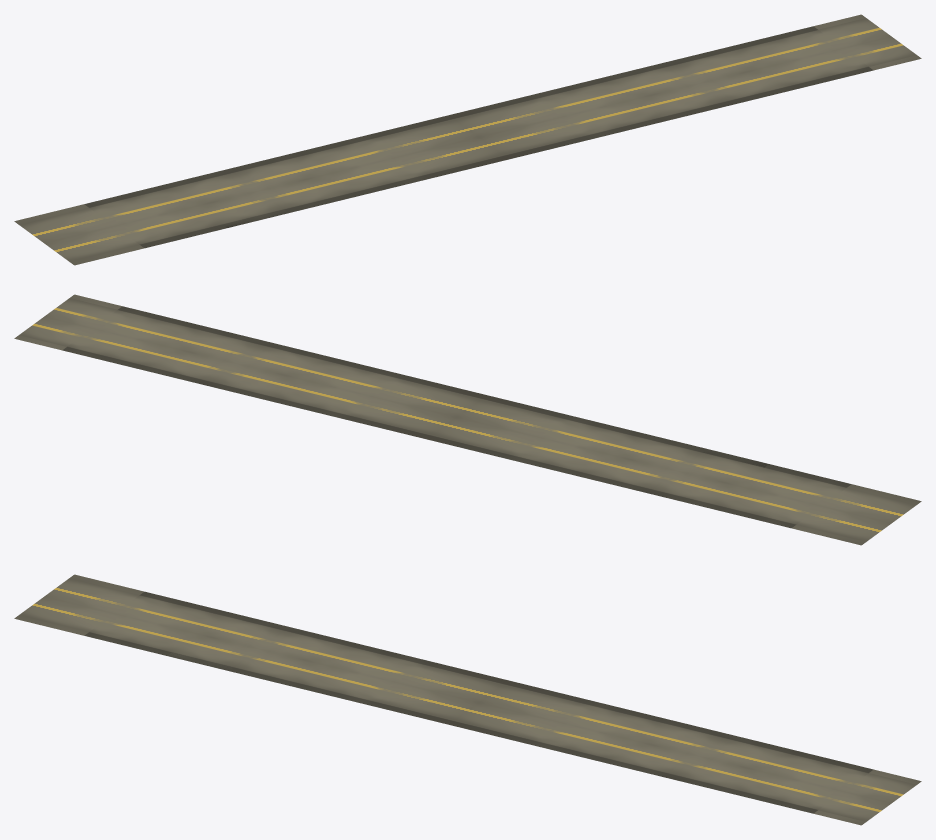
File: PisoCalle.fbx
The picture shows the model from 3 angles, top to bottom: view 1: azimuth 30°, elevation 25°; view 2: azimuth 150°, elevation 25°; view 3: azimuth 330°, elevation 25°; orthographic projection.
Parts seen in each view (by area): view 1: Calle_01.001; view 2: Calle_01.001; view 3: Calle_01.001.
Boxes of the visible parts, <box> form: Calle_01.001: <box>14,14,921,265</box>; Calle_01.001: <box>14,294,921,545</box>; Calle_01.001: <box>14,574,921,825</box>.
Bounding box in the file's own units: 26964 × 0.1245 × 3329.
Materials: 1 (1 with a texture image).
